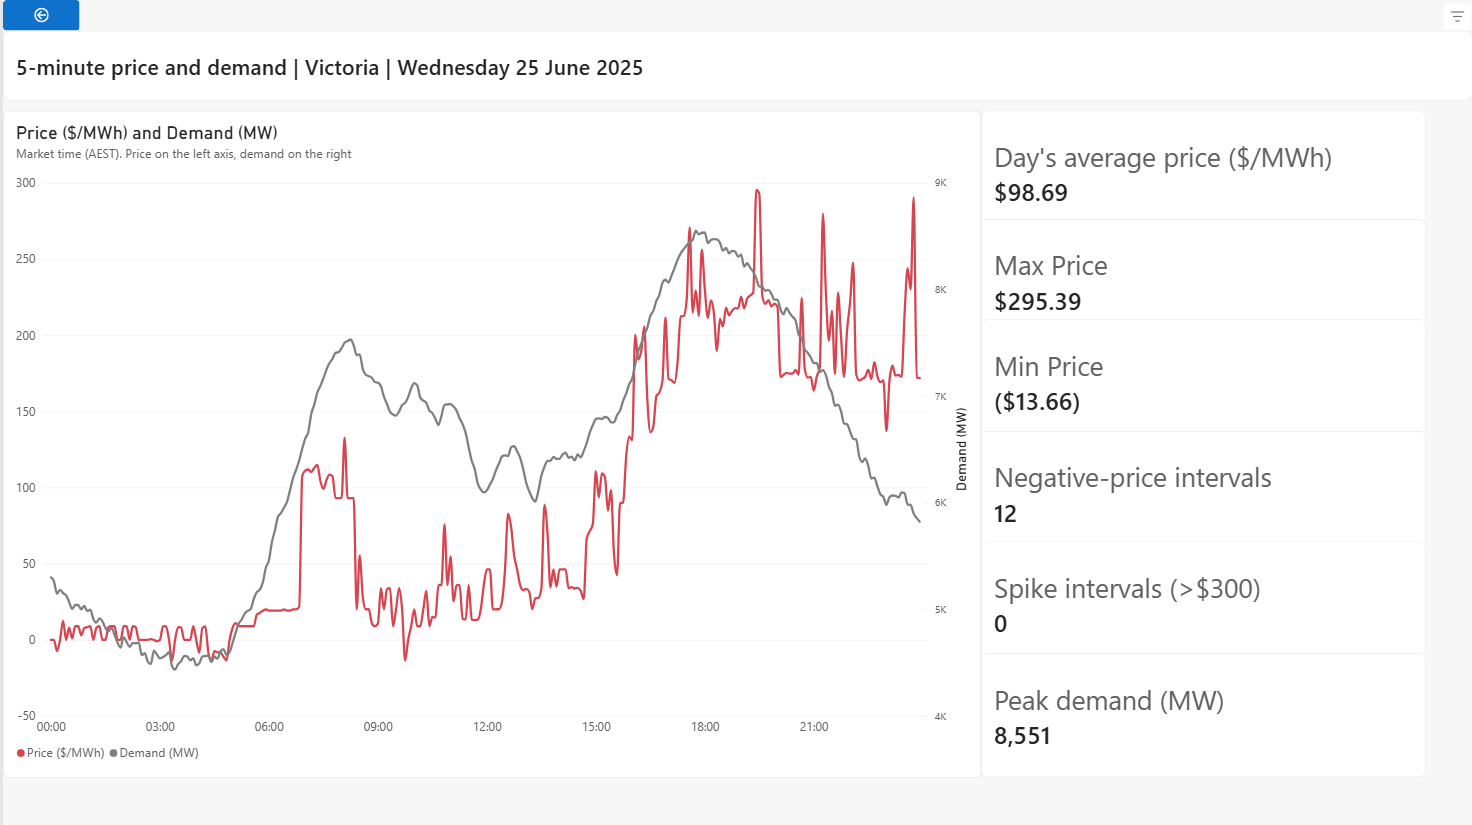

This screenshot's page, from the dashboard's own definition file:
{"tool":"powerbi","page":{"name":"Day Detail","canvas":[1920,1080],"ordinal":6},"visuals":[{"type":"actionButton","box":[0,0,100,40],"z":0},{"type":"cardVisual","fields":{"Data":["_Measures.Day Detail Title"]},"box":[0,39.6,1920.6,91.8],"z":1000},{"type":"lineChart","title":"Price ($/MWh) and Demand (MW)","fields":{"Category":["DimTime.Time"],"Y":["_Measures.Avg Price"],"Y2":["_Measures.Avg Demand MW"]},"box":[0,143.9,1278.3,871.7],"z":2000},{"type":"cardVisual","fields":{"Data":["_Measures.VWAP"]},"box":[1278.3,143.9,581.8,162.7],"z":3000},{"type":"cardVisual","fields":{"Data":["_Measures.Max Price"]},"box":[1278.3,285.7,581.8,162.7],"z":4000},{"type":"cardVisual","fields":{"Data":["_Measures.Min Price"]},"box":[1278.3,417.1,581.8,162.7],"z":5000},{"type":"cardVisual","fields":{"Data":["_Measures.Negative Intervals"]},"box":[1278.3,563,581.8,162.7],"z":6000},{"type":"cardVisual","fields":{"Data":["_Measures.Spike Intervals"]},"box":[1278.3,706.9,581.8,162.7],"z":7000},{"type":"cardVisual","fields":{"Data":["_Measures.Peak Demand MW"]},"box":[1278.3,852.9,581.8,162.7],"z":8000}]}

Visuals, with their boxes on the page's 1920x1080 design canvas (x1, y1, x2, y2). These are canvas units, not pixel positions in the 1472x825 screenshot, which may show the page scaled, cropped or inside an application window:
actionButton: 0:0:100:40
cardVisual - _Measures.Day Detail Title: 0:40:1921:131
"Price ($/MWh) and Demand (MW)" lineChart: 0:144:1278:1016
cardVisual - _Measures.VWAP: 1278:144:1860:307
cardVisual - _Measures.Max Price: 1278:286:1860:448
cardVisual - _Measures.Min Price: 1278:417:1860:580
cardVisual - _Measures.Negative Intervals: 1278:563:1860:726
cardVisual - _Measures.Spike Intervals: 1278:707:1860:870
cardVisual - _Measures.Peak Demand MW: 1278:853:1860:1016
